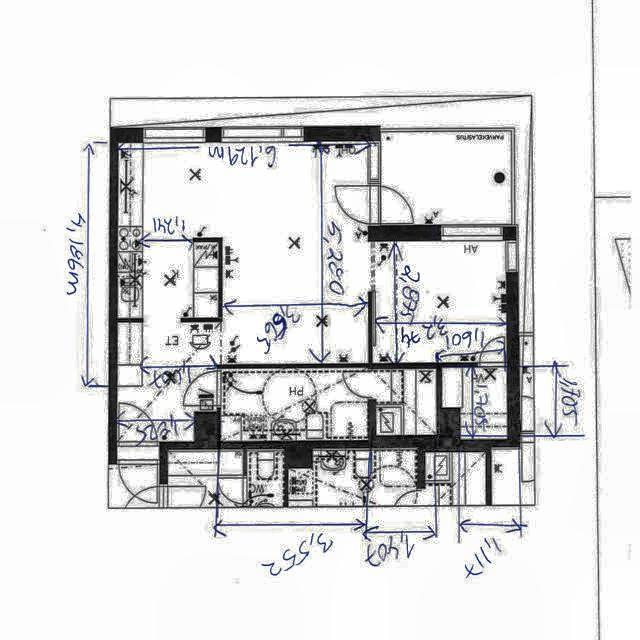room: (372, 241, 506, 363), (221, 368, 368, 441), (168, 449, 244, 507), (376, 369, 436, 434), (246, 449, 285, 507)
